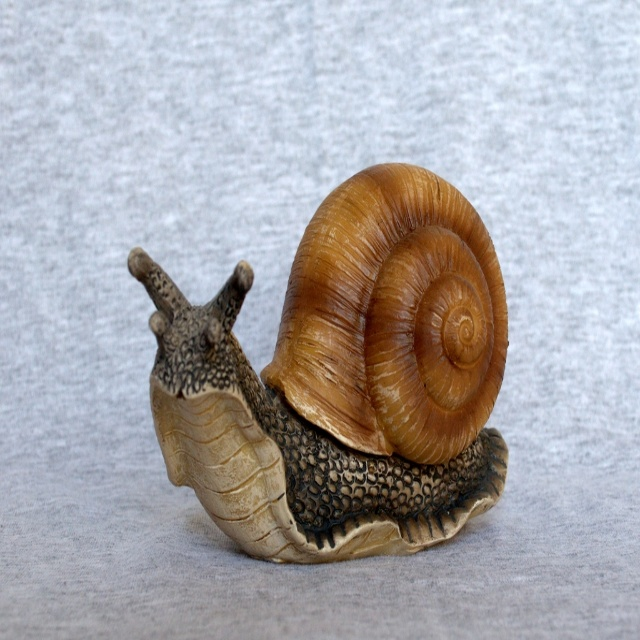Snail: (127, 162, 509, 563)
